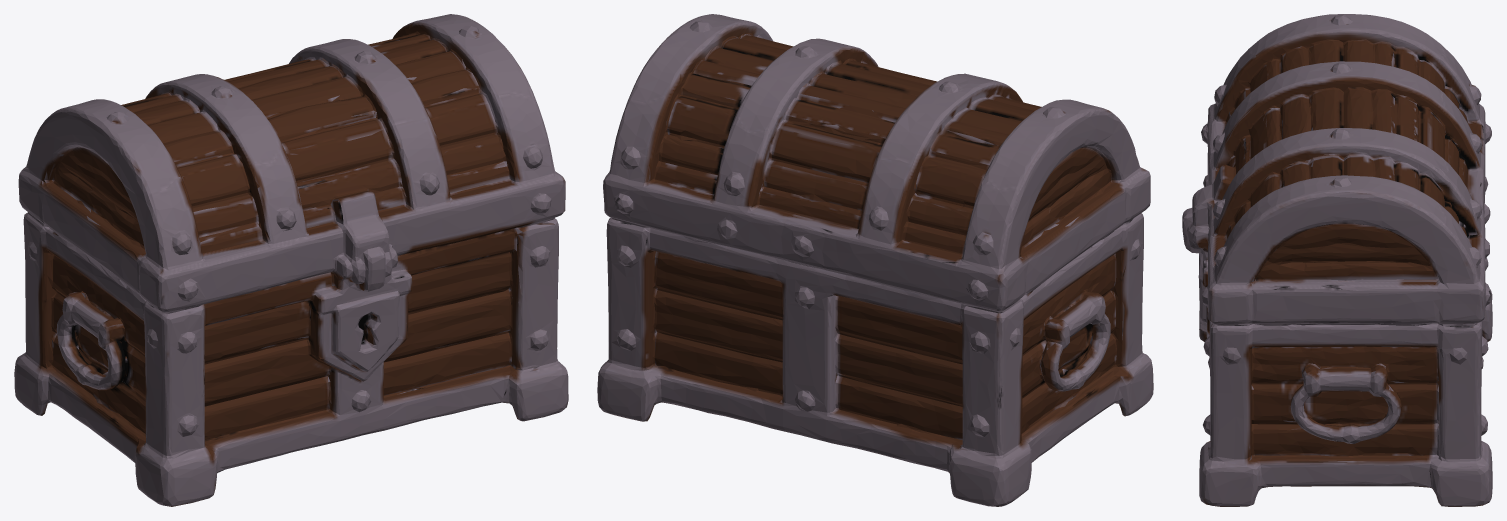
File: bau.glb
3 views of the same model, side by side, from view 1: azimuth 30°, elevation 25°; view 2: azimuth 150°, elevation 25°; view 3: azimuth 270°, elevation 25° (orthographic). The views are drawn at different scales.
Visible parts, largest first — view 1: tmpodiqs6xa.ply; view 2: tmpodiqs6xa.ply; view 3: tmpodiqs6xa.ply.
Boxes of the visible parts, box(x1,y1,x2,y2) form: tmpodiqs6xa.ply: box(14, 14, 568, 506); tmpodiqs6xa.ply: box(597, 14, 1153, 506); tmpodiqs6xa.ply: box(1182, 14, 1492, 506).
Size of the model in its own units: 1.96 by 1.51 by 1.33.
1 material, 1 textured.
